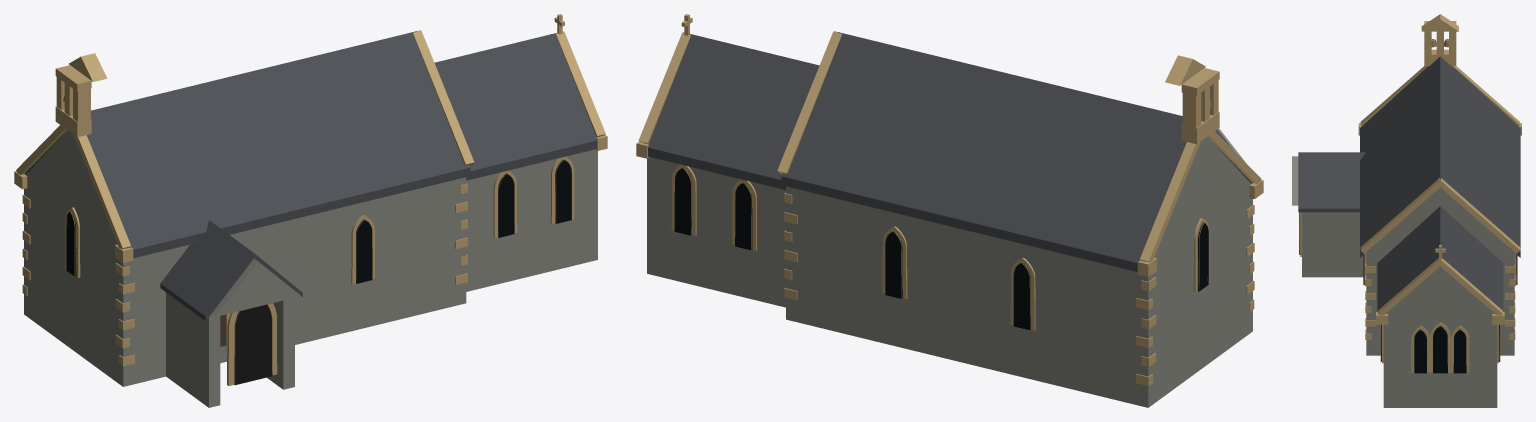
Rendered from context.church.som_small.glb.
The picture shows the model from 3 angles, left to right: view 1: azimuth 30°, elevation 25°; view 2: azimuth 150°, elevation 25°; view 3: azimuth 270°, elevation 25°; orthographic projection. The views are drawn at different scales.
Parts seen in each view (by area): view 1: main__clad_455, main__stone_888, main__stone_ba7, main__glass_dark, main__timber_111, main__stone_875; view 2: main__clad_455, main__stone_888, main__stone_ba7, main__glass_dark, main__stone_875; view 3: main__clad_455, main__stone_888, main__stone_ba7, main__glass_dark, main__stone_875.
Part boxes in pixels (x1,y1,x2,y2): main__clad_455: [24, 31, 600, 321]; main__stone_888: [24, 130, 597, 407]; main__stone_ba7: [14, 14, 607, 385]; main__glass_dark: [66, 159, 571, 283]; main__timber_111: [235, 304, 272, 384]; main__stone_875: [65, 160, 571, 384]; main__clad_455: [644, 32, 1252, 271]; main__stone_888: [647, 128, 1252, 407]; main__stone_ba7: [636, 14, 1263, 385]; main__glass_dark: [674, 167, 1208, 329]; main__stone_875: [674, 168, 1208, 329]; main__clad_455: [1298, 56, 1520, 313]; main__stone_888: [1292, 156, 1514, 407]; main__stone_ba7: [1300, 14, 1521, 372]; main__glass_dark: [1363, 254, 1516, 373]; main__stone_875: [1299, 212, 1517, 364].
Bounding box in the file's own units: 17.42 × 9.77 × 9.3.
